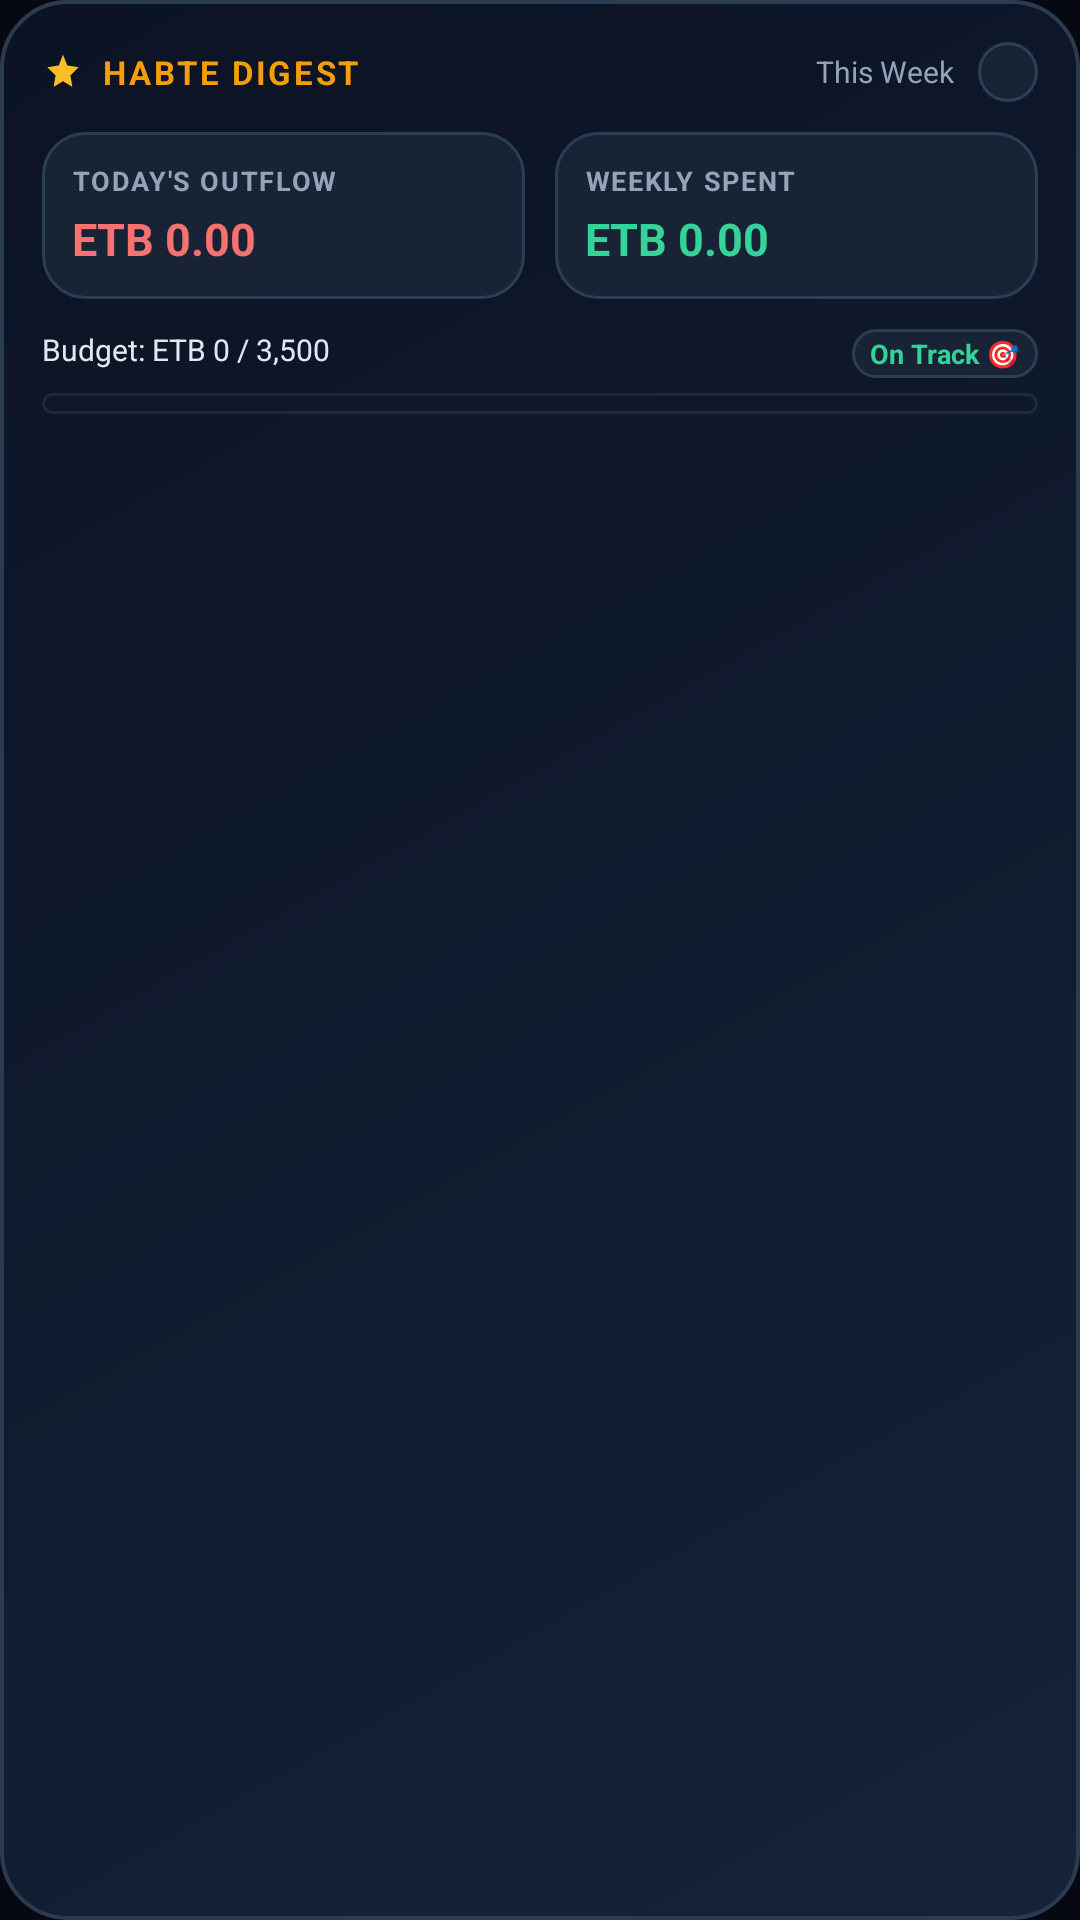

Icon bounding boxes for this 1080x1920 phone screenshot, format (x1, y1, x2, y2):
widget sparkle: (47, 55, 79, 87)
